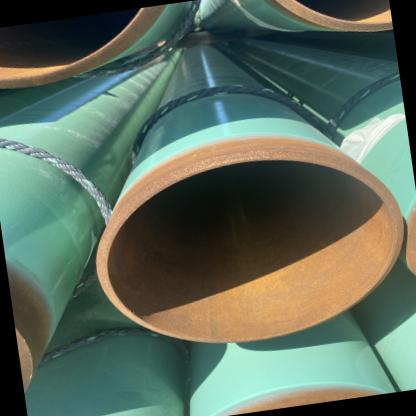clean: (206, 145, 262, 180)
